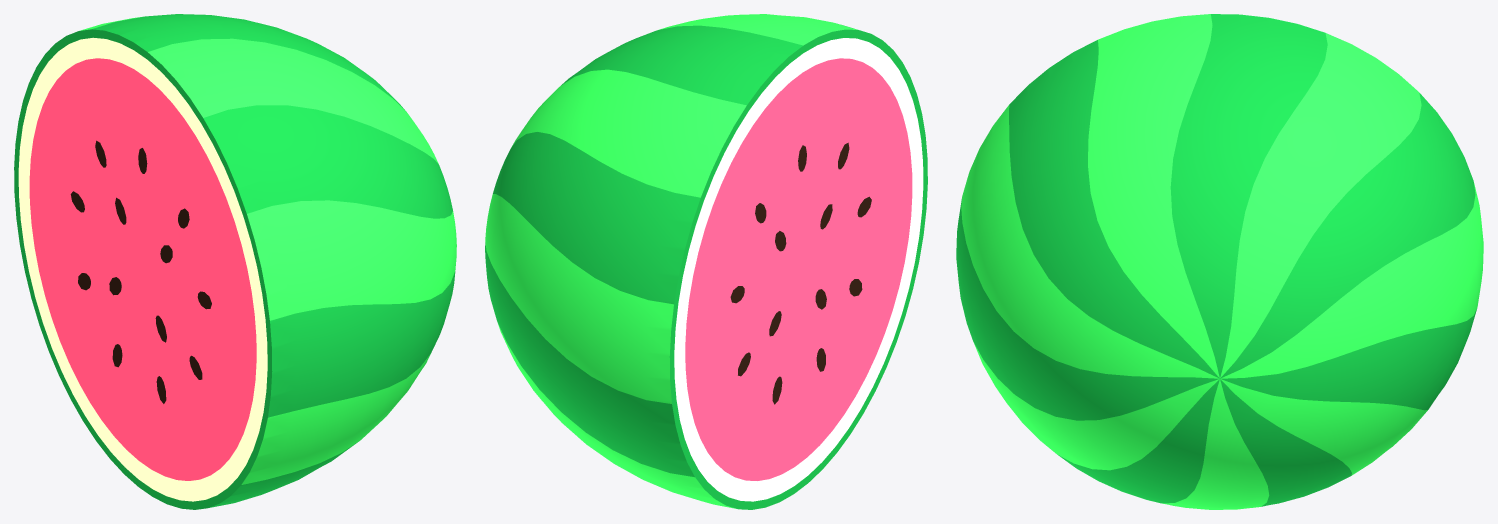
3 renders of one model, left to right at view 1: azimuth 30°, elevation 25°; view 2: azimuth 150°, elevation 25°; view 3: azimuth 270°, elevation 25°, orthographic.
Visible parts, largest first — view 1: Watermelon-right; view 2: Watermelon-right; view 3: Watermelon-right.
Part boxes in pixels (x1,y1,x2,y2): Watermelon-right: (14,14,456,509); Watermelon-right: (485,14,927,509); Watermelon-right: (956,14,1483,509).
Bounding box in the file's own units: 0.0318 × 0.0474 × 0.0502.
